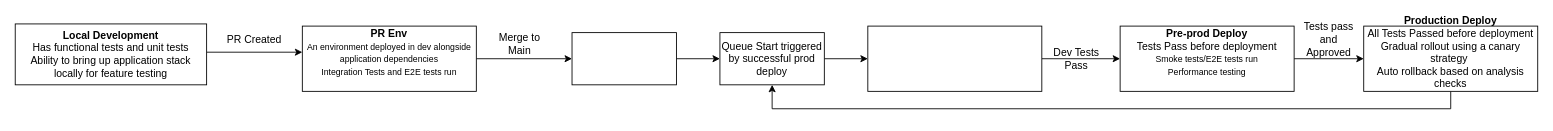
This 1553x131 diagram has some shape labels left out. The centre of each missing label's shape, as x and y in pixels:
Adds PR to Merge Queue: the point at 623,58
Dev Deploy On merge to main dev environment deployed Smoke tests/E2E tests run: the point at 954,58
